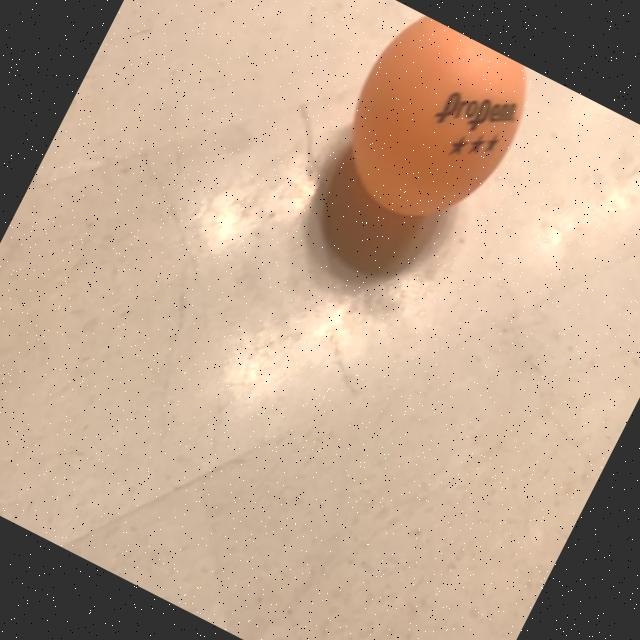ping-pong-ball: (306, 0, 556, 260)
